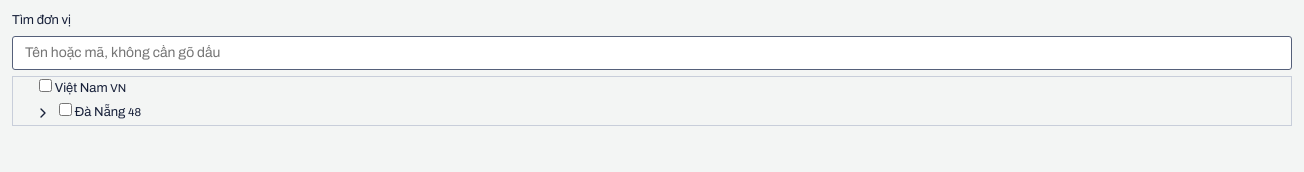
it: UnitPicker › search finds a xã by name without diacritics
Expected: the text "Điện Hồng" is not shown
In the search field labelled "Tìm đơn vị": (652, 52) [12,36,1292,70], type "dien hong"
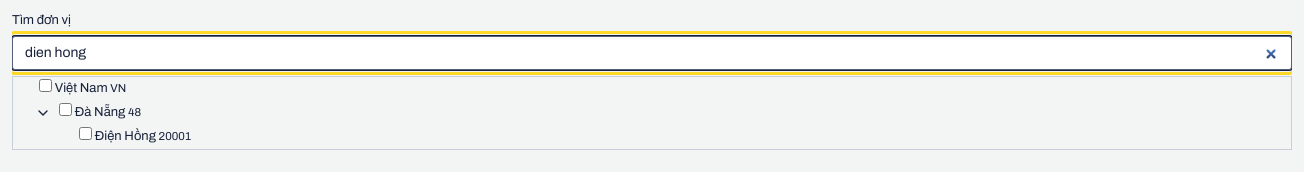
Expected: the text "Điện Hồng" is shown, [95,129,156,143]
